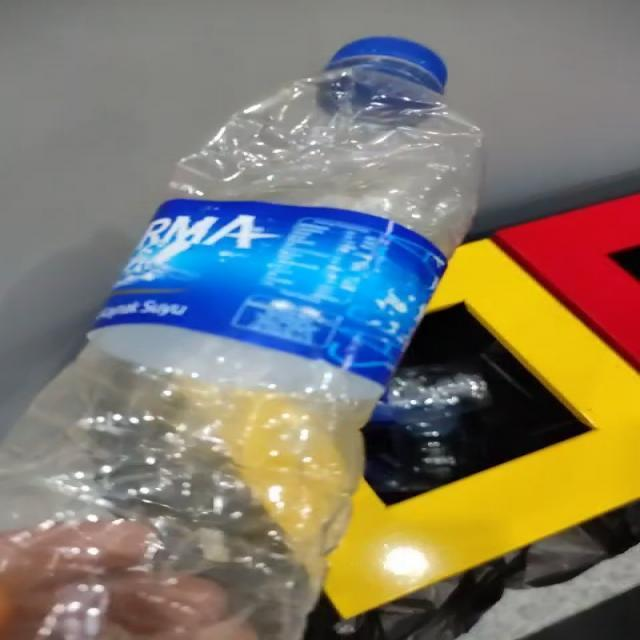Plastic: (1, 36, 483, 640)
